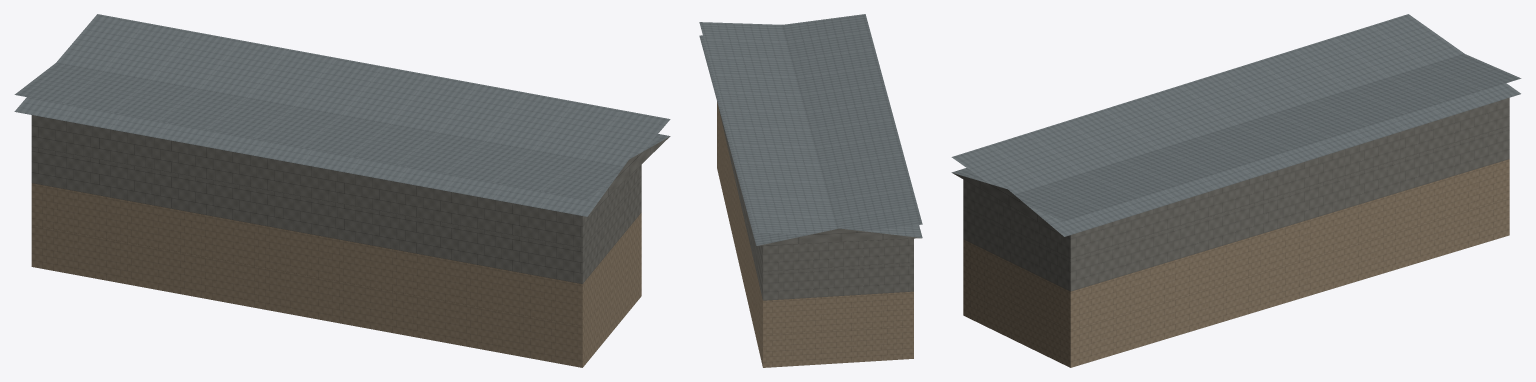
File: bld_c-10_37_432.gltf
3 renders of one model, left to right at view 1: azimuth 30°, elevation 25°; view 2: azimuth 150°, elevation 25°; view 3: azimuth 270°, elevation 25°, orthographic. The views are drawn at different scales.
Parts seen in each view (by area): view 1: bld_c-10_37_432; view 2: bld_c-10_37_432; view 3: bld_c-10_37_432.
Boxes of the visible parts, x1,y1,x2,y2 form: bld_c-10_37_432: (14, 14, 670, 367); bld_c-10_37_432: (699, 14, 922, 367); bld_c-10_37_432: (951, 14, 1521, 367).
Bounding box in the file's own units: 28.81 × 10.2 × 33.43.
4 materials, 4 textured.
